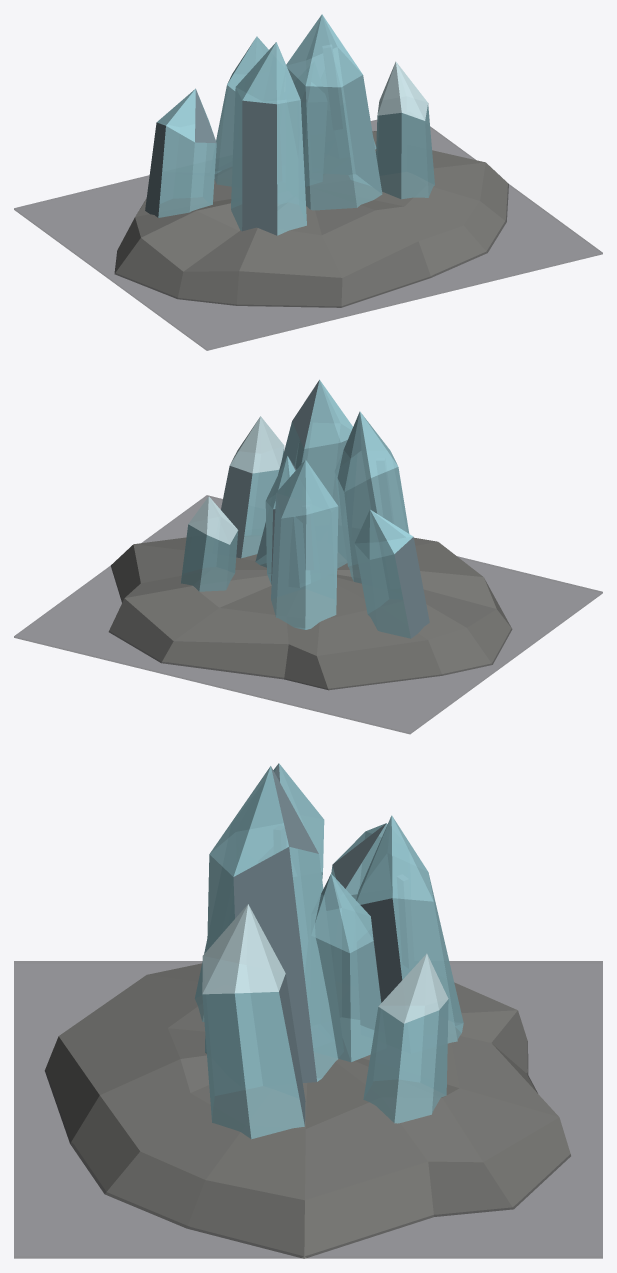
Rendered from raw_crystals.glb.
3 renders of one model, top to bottom at view 1: azimuth 30°, elevation 25°; view 2: azimuth 150°, elevation 25°; view 3: azimuth 270°, elevation 25°, orthographic. The views are drawn at different scales.
Visible parts, largest first — view 1: crystal_cluster_base, stack_shadow, crystal_02, crystal_01, crystal_04, crystal_03, crystal_05, crystal_07, crystal_impurity_02; view 2: crystal_cluster_base, stack_shadow, crystal_05, crystal_04, crystal_01, crystal_02, crystal_03, crystal_06, crystal_07, crystal_impurity_01, crystal_impurity_03; view 3: crystal_cluster_base, stack_shadow, crystal_02, crystal_03, crystal_05, crystal_07, crystal_06, crystal_01, crystal_04, crystal_impurity_03.
Part boxes in pixels (x1=…): crystal_cluster_base: x1=114, y1=131, x2=508, y2=307; stack_shadow: x1=14, y1=120, x2=602, y2=350; crystal_02: x1=286, y1=14, x2=382, y2=210; crystal_01: x1=231, y1=42, x2=306, y2=235; crystal_04: x1=145, y1=88, x2=216, y2=217; crystal_03: x1=376, y1=61, x2=434, y2=199; crystal_05: x1=214, y1=36, x2=268, y2=186; crystal_07: x1=301, y1=82, x2=326, y2=186; crystal_impurity_02: x1=323, y1=45, x2=342, y2=129; crystal_cluster_base: x1=108, y1=536, x2=512, y2=690; stack_shadow: x1=14, y1=495, x2=602, y2=734; crystal_05: x1=271, y1=459, x2=338, y2=629; crystal_04: x1=354, y1=509, x2=429, y2=638; crystal_01: x1=335, y1=411, x2=409, y2=583; crystal_02: x1=255, y1=379, x2=352, y2=568; crystal_03: x1=221, y1=416, x2=284, y2=558; crystal_06: x1=181, y1=496, x2=238, y2=591; crystal_07: x1=265, y1=456, x2=310, y2=587; crystal_impurity_01: x1=376, y1=458, x2=393, y2=523; crystal_impurity_03: x1=302, y1=505, x2=313, y2=569; crystal_cluster_base: x1=44, y1=963, x2=570, y2=1258; stack_shadow: x1=14, y1=961, x2=602, y2=1258; crystal_02: x1=205, y1=766, x2=343, y2=1082; crystal_03: x1=202, y1=904, x2=305, y2=1139; crystal_05: x1=356, y1=815, x2=463, y2=1043; crystal_07: x1=305, y1=873, x2=381, y2=1062; crystal_06: x1=363, y1=953, x2=448, y2=1123; crystal_01: x1=194, y1=763, x2=324, y2=1021; crystal_04: x1=331, y1=823, x2=387, y2=900; crystal_impurity_03: x1=397, y1=875, x2=413, y2=968.
Size of the model in its own units: 0.5115 by 0.279 by 0.43.
